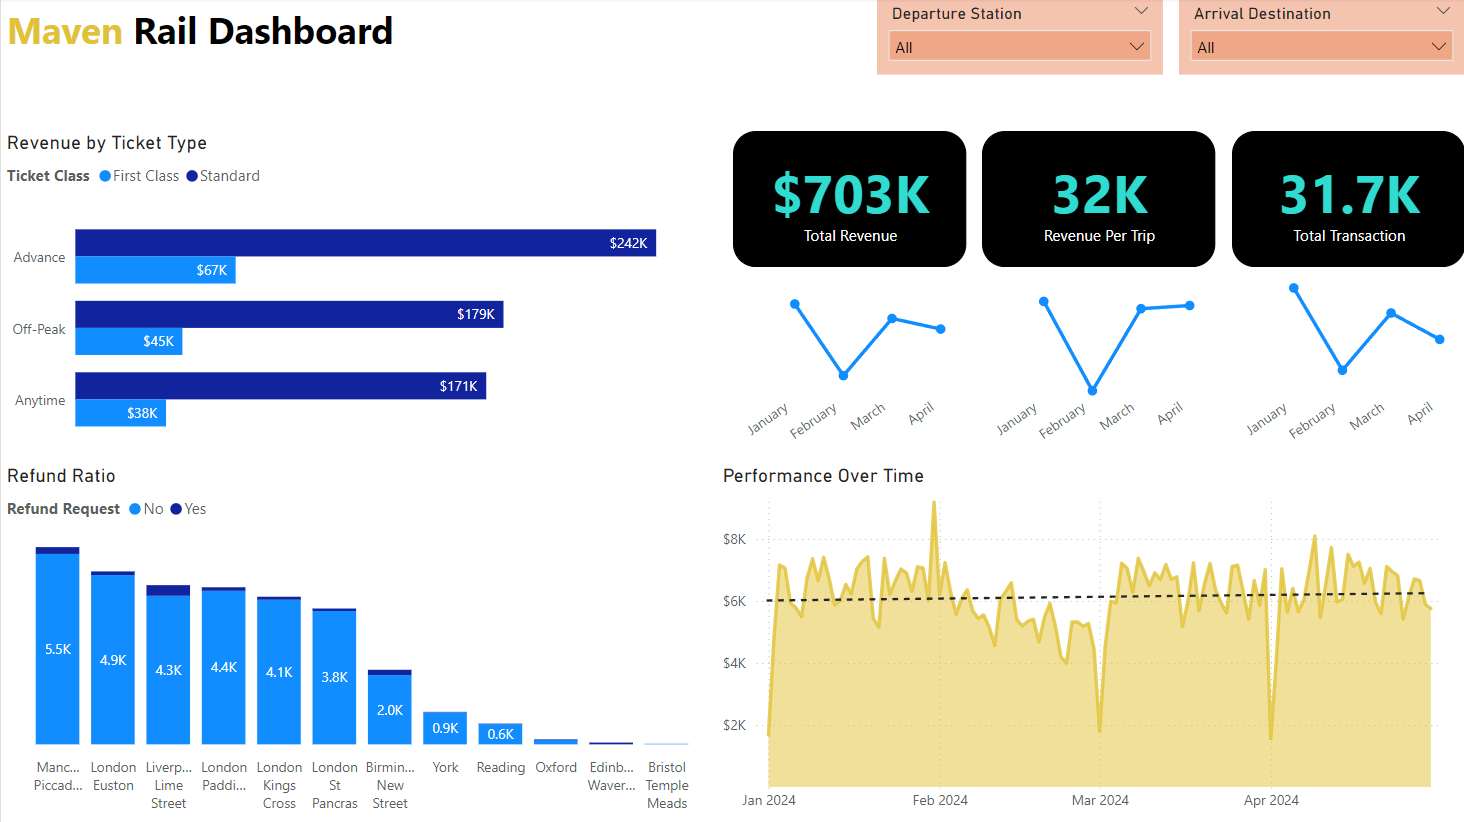

This screenshot's page, from the dashboard's own definition file:
{"tool":"powerbi","page":{"name":"Main Dashboard","canvas":[1280,720],"ordinal":0},"visuals":[{"type":"card","fields":{"Values":["railway.Revenue"]},"box":[640,115.9,203.6,118.9],"z":0},{"type":"card","fields":{"Values":["railway.Total Transaction"]},"box":[1076.4,115.9,203.6,118.9],"z":1000},{"type":"card","fields":{"Values":["railway.Trips"]},"box":[857.7,115.9,203.6,118.9],"z":2000},{"type":"clusteredBarChart","title":"Revenue by Ticket Type","fields":{"Category":["railway.Ticket Type"],"Series":["railway.Ticket Class"],"Y":["railway.Total Price"]},"box":[0,115.9,640,291.3],"z":3000},{"type":"lineChart","title":"Performance Over Time","fields":{"Category":["railway.Date.Variation.Date Hierarchy.Year","railway.Date.Variation.Date Hierarchy.Quarter","railway.Date.Variation.Date Hierarchy.Month","railway.Date.Variation.Date Hierarchy.Day"],"Y":["railway.Total Price"]},"box":[625.9,407.2,654.1,312.4],"z":4000},{"type":"columnChart","title":"Refund Ratio","fields":{"Y":["railway.Trips"],"Category":["railway.Departure Station"],"Series":["railway.Refund Request"]},"box":[0,407.2,625.9,312.4],"z":5000},{"type":"textbox","box":[0,0,356.4,57.3],"z":6000},{"type":"lineChart","title":"Total Revenue","fields":{"Category":["railway.Date of Purchase.Variation.Date Hierarchy.Month"],"Y":["railway.Total Price"]},"box":[640,234.8,203.6,172.3],"z":7000},{"type":"lineChart","title":"Revenue Per Trip","fields":{"Category":["railway.Date of Purchase.Variation.Date Hierarchy.Month"],"Y":["railway.Revenue Per Trip"]},"box":[857.7,234.8,203.6,172.3],"z":8000},{"type":"lineChart","title":"Total Transactions","fields":{"Category":["railway.Date of Purchase.Variation.Date Hierarchy.Month"],"Y":["railway.Total Transaction"]},"box":[1076.4,234.8,203.6,172.3],"z":9000},{"type":"slicer","fields":{"Values":["railway.Departure Station"]},"box":[766,0,250,66.5],"z":10000},{"type":"slicer","fields":{"Values":["railway.Arrival Destination"]},"box":[1030,0,250,66.5],"z":11000}]}

Visuals, with their boxes in screenshot pixels (x1, y1, x2, y2), scaled from the page's 1280x720 canvas onto the 1464x822 screenshot:
card - railway.Revenue: x1=732 y1=132 x2=965 y2=268
card - railway.Total Transaction: x1=1231 y1=132 x2=1463 y2=268
card - railway.Trips: x1=981 y1=132 x2=1214 y2=268
"Revenue by Ticket Type" clusteredBarChart: x1=0 y1=132 x2=732 y2=465
"Performance Over Time" lineChart: x1=716 y1=465 x2=1463 y2=821
"Refund Ratio" columnChart: x1=0 y1=465 x2=716 y2=821
textbox: x1=0 y1=0 x2=408 y2=65
"Total Revenue" lineChart: x1=732 y1=268 x2=965 y2=465
"Revenue Per Trip" lineChart: x1=981 y1=268 x2=1214 y2=465
"Total Transactions" lineChart: x1=1231 y1=268 x2=1463 y2=465
slicer - railway.Departure Station: x1=876 y1=0 x2=1162 y2=76
slicer - railway.Arrival Destination: x1=1178 y1=0 x2=1463 y2=76
